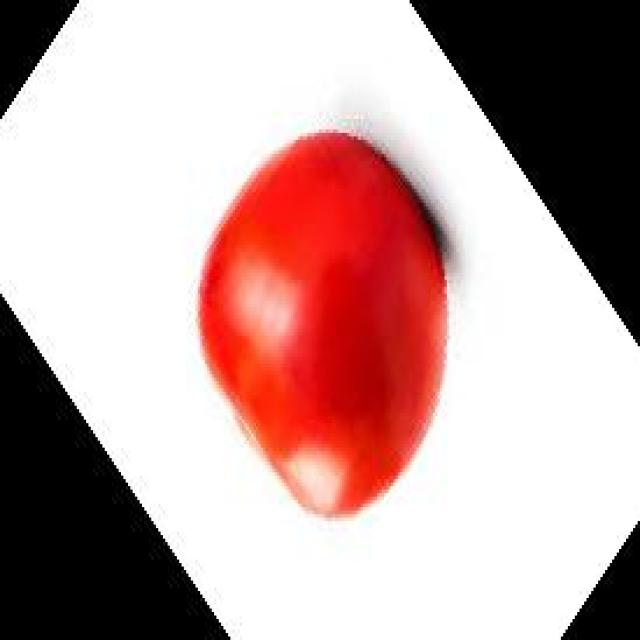Tomato: (197, 127, 458, 523)
